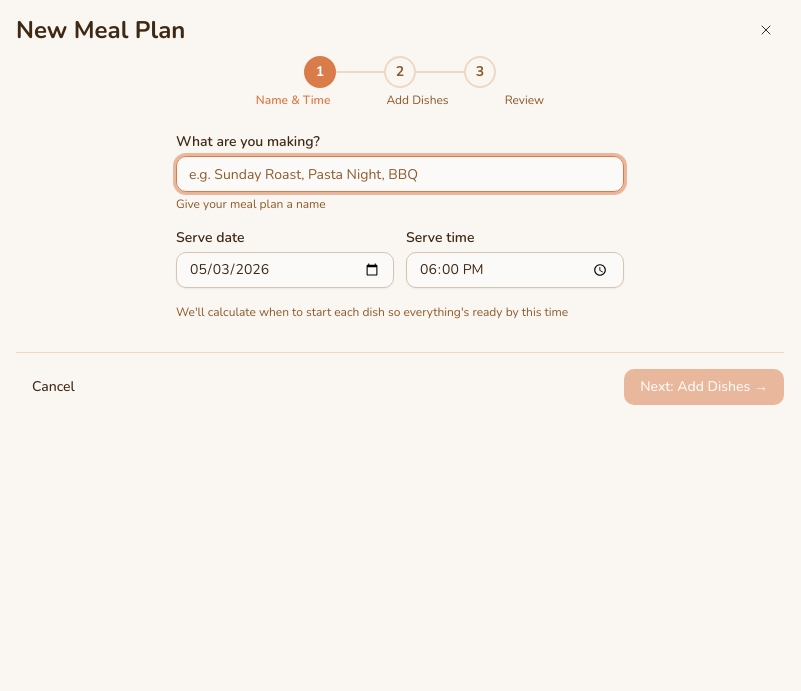
CreatePlanWizard › Step 2 — Add Dishes › removes a recipe when clicking its card again
In the field labelled "What are you making?": (400, 174) [176,156,624,192], type "Test Plan"
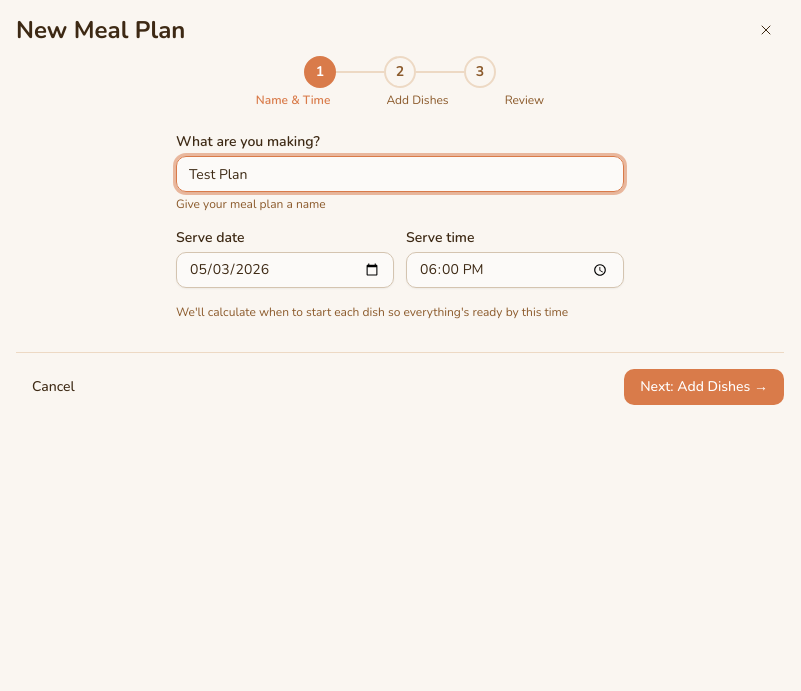
Click the button "Next: Add Dishes →": (704, 387) [624,369,784,405]
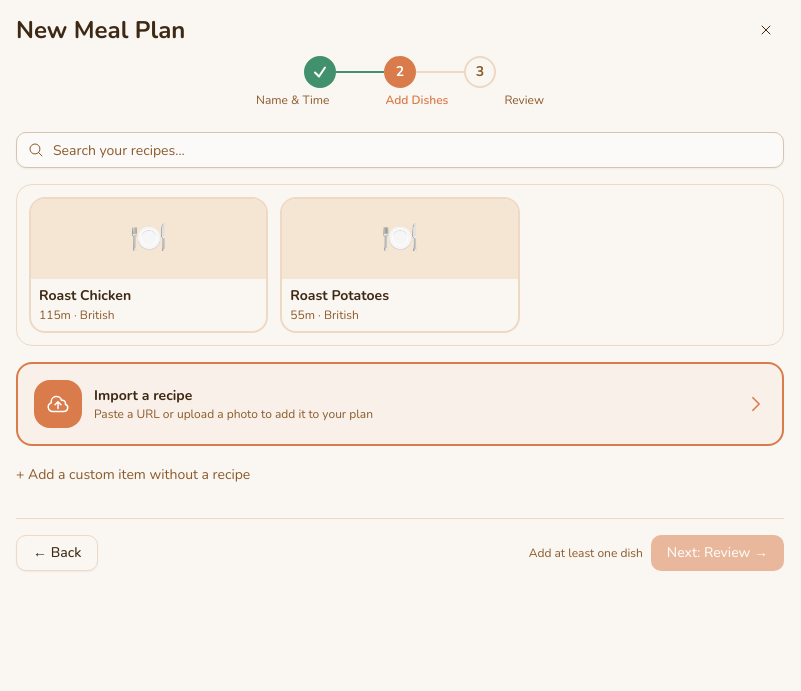
Click the button with aria-label "Add Roast Chicken to plan": (149, 265) [29,197,268,332]
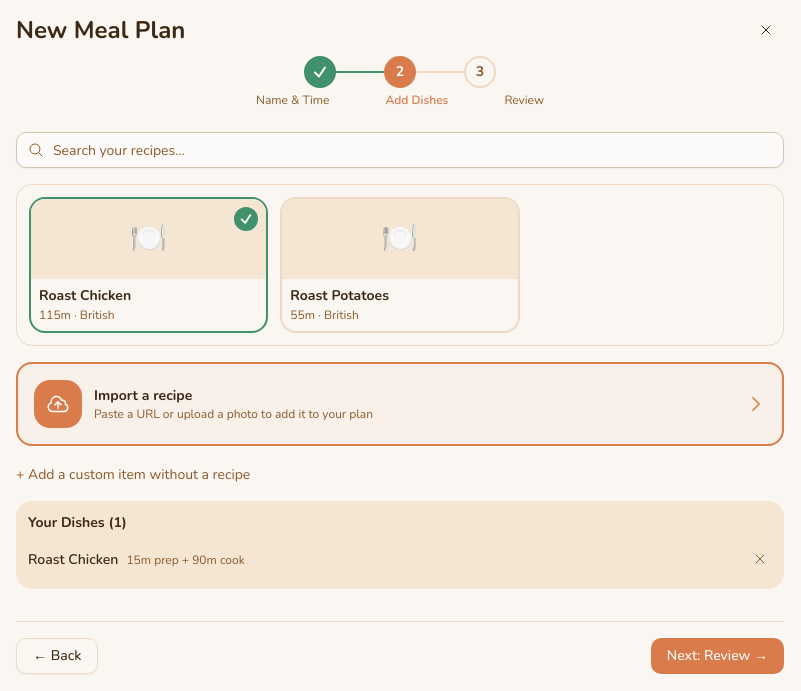
Now the text "Your Dishes (1)" is shown, box [28,512,127,532]
Click the button with aria-label "Remove Roast Chicken from plan": (149, 265) [29,197,268,332]
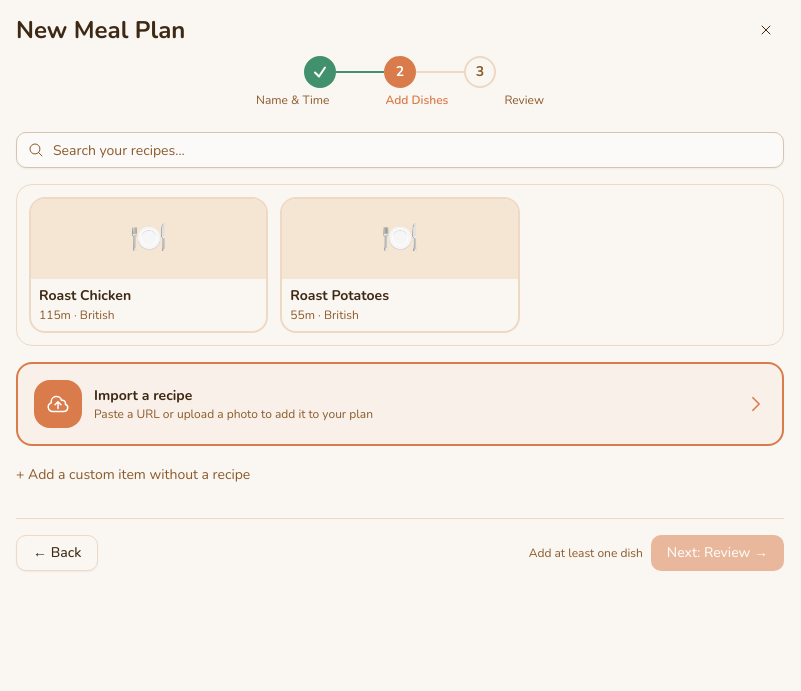
Now the text "Your Dishes" is gone
